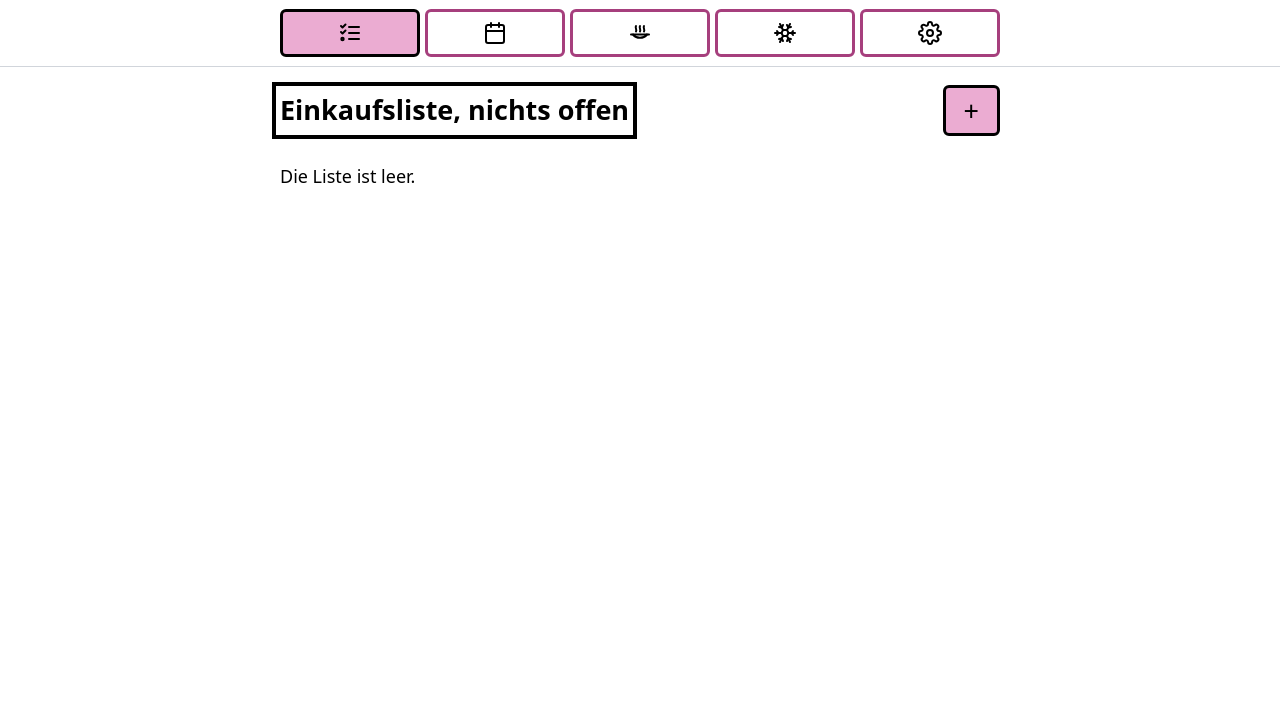
Test: SignedInApp › opens the week plan in the day view
Click the button named "Wochenplan" at (495, 33), box [425,9,565,57]
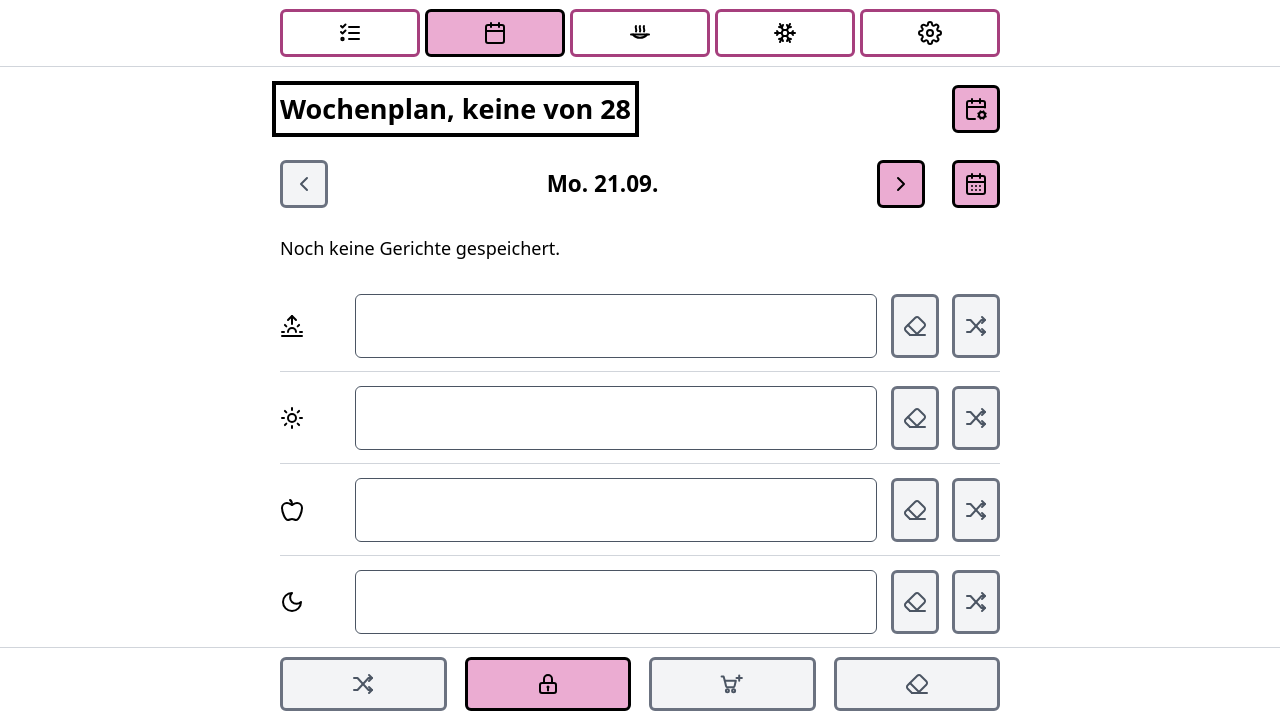
Result: the button named "Wochenansicht" is shown at [952,160,1000,208]
